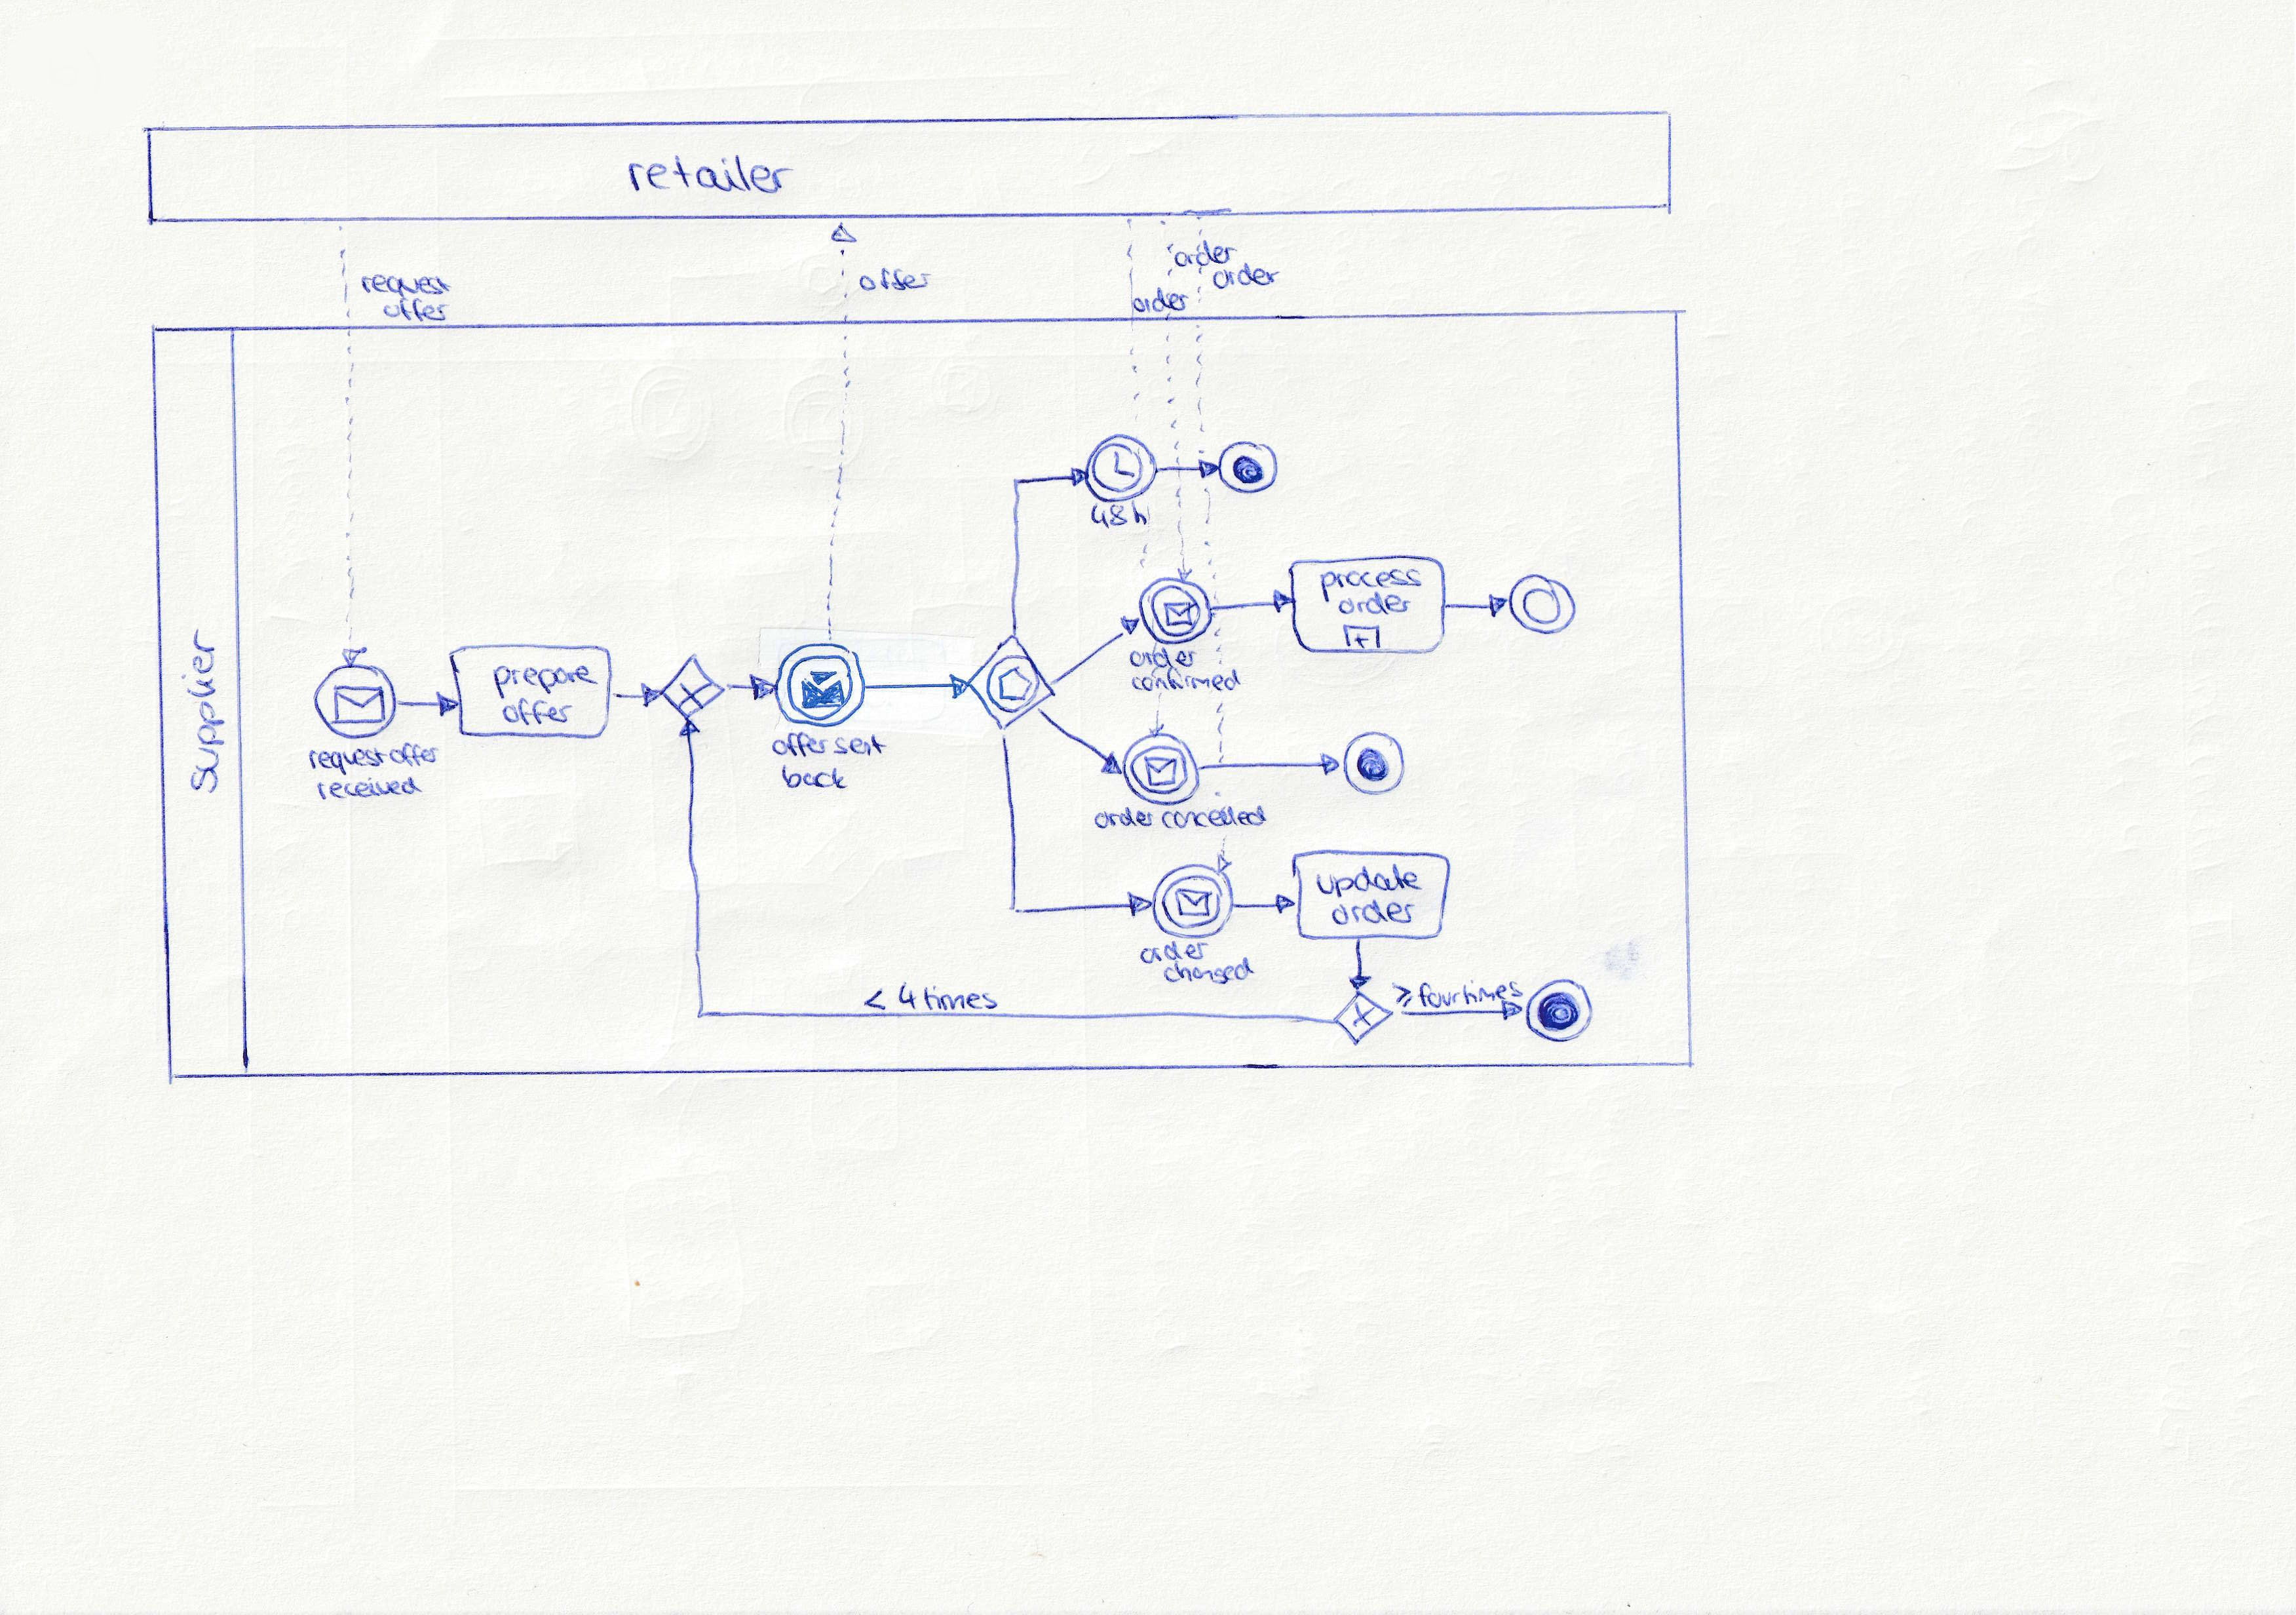48h: (1092, 500, 1148, 526)
<4: (858, 982, 912, 1017)
>=fourtimes: (1393, 981, 1525, 1003)
Order: (1125, 280, 1190, 320)
back: (779, 769, 847, 790)
cancelled: (1158, 801, 1269, 835)
changed: (1171, 958, 1244, 988)
confirmed: (1143, 668, 1230, 697)
offer: (488, 699, 587, 725), (865, 262, 926, 301), (381, 297, 453, 325), (386, 741, 442, 771), (772, 734, 826, 760)
order: (1330, 587, 1424, 622), (1078, 807, 1172, 835), (1136, 937, 1213, 968), (1338, 900, 1410, 928), (1211, 267, 1281, 292), (1171, 243, 1234, 267), (1127, 643, 1199, 664)
prepare: (489, 666, 598, 689)
process: (1316, 559, 1426, 587)
received: (315, 774, 416, 802)
request: (351, 257, 454, 301), (316, 745, 374, 774)
retailer: (626, 156, 793, 198)
sent: (813, 731, 902, 762)
supplier: (168, 631, 234, 794)
times: (910, 986, 1003, 1015)
update: (1324, 867, 1415, 898)
